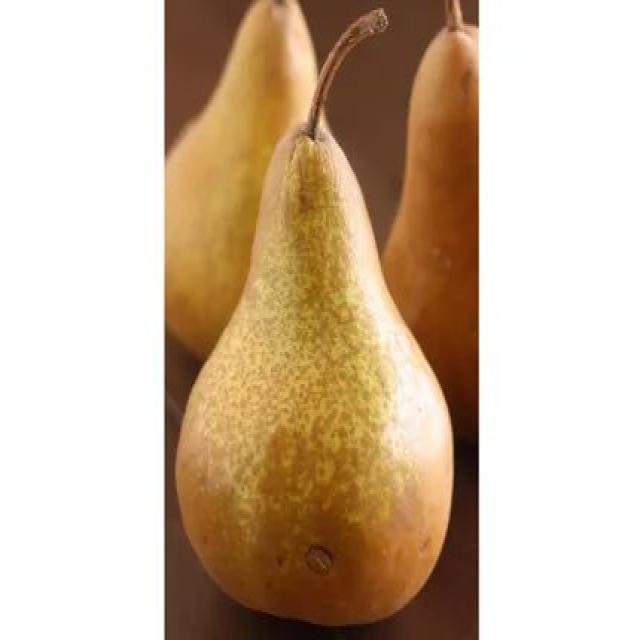pear: (164, 0, 473, 628)
